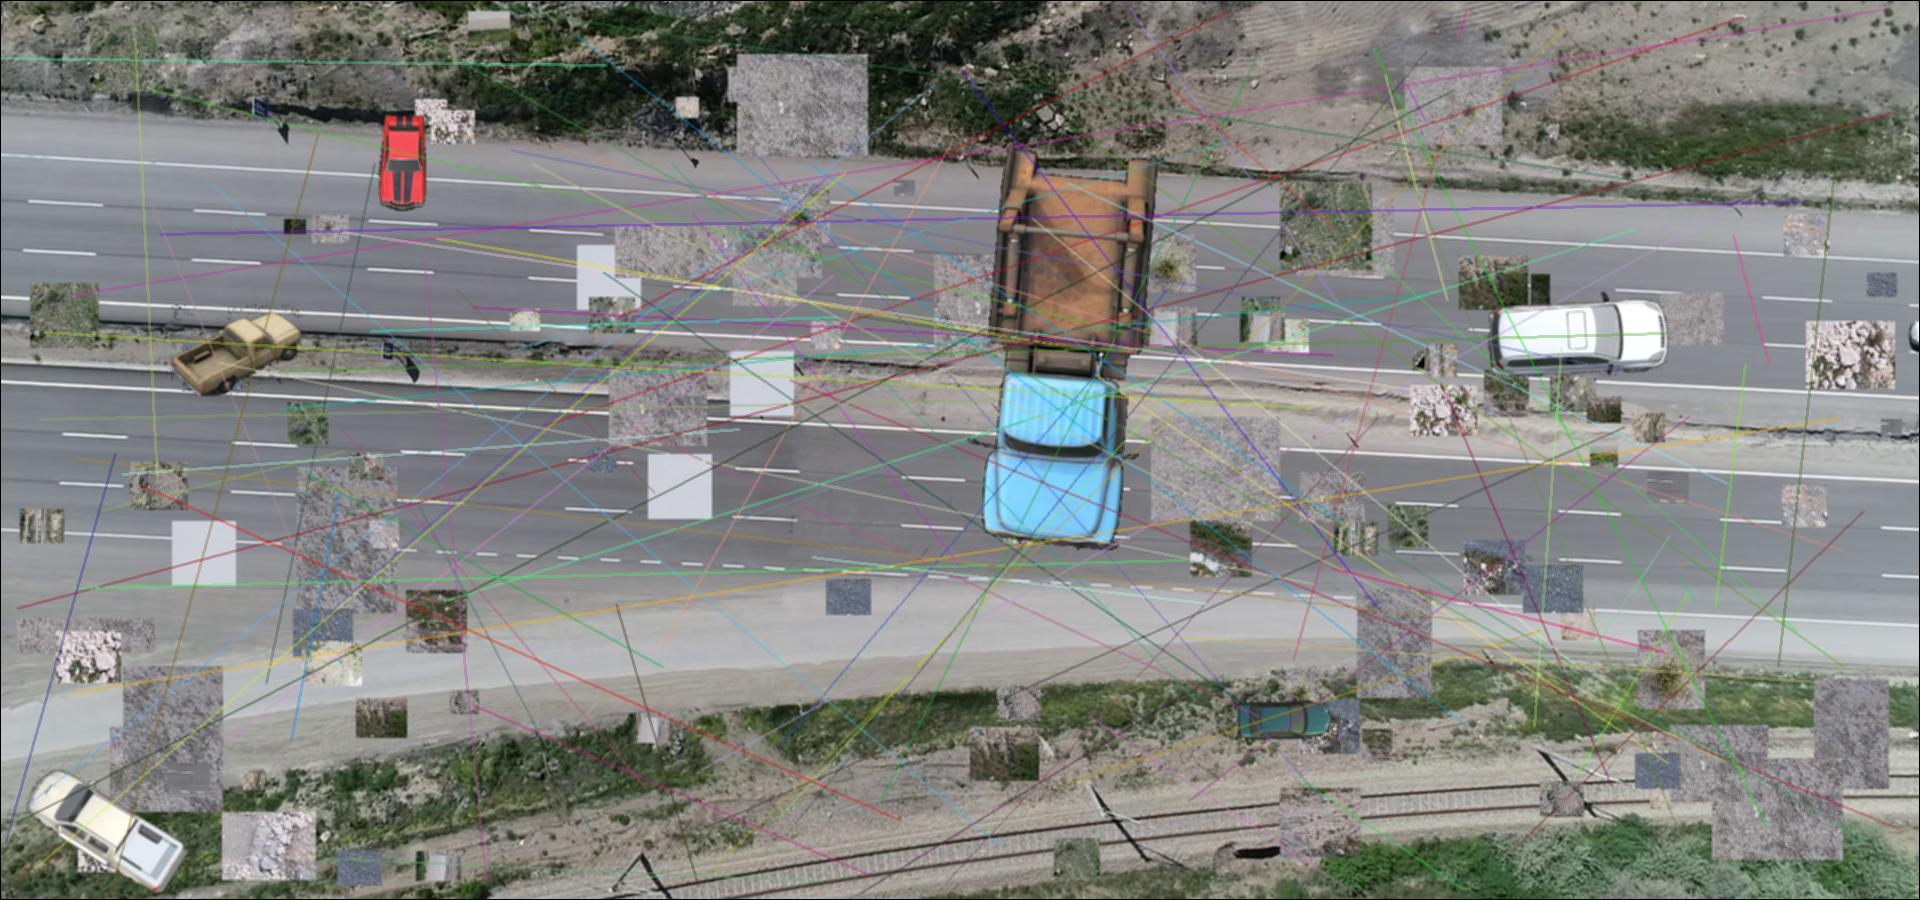arac: (967, 140, 1167, 556), (24, 762, 192, 891), (1484, 288, 1670, 377), (171, 305, 302, 396), (373, 111, 432, 211), (1237, 699, 1332, 742)
